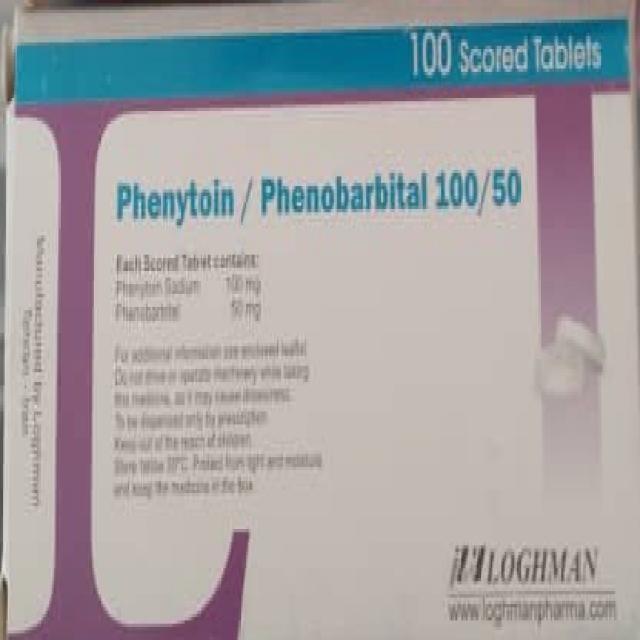drug-name: (110, 157, 528, 231)
